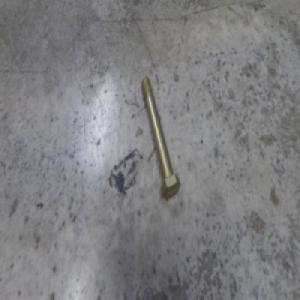Bolt: (140, 75, 179, 198)
